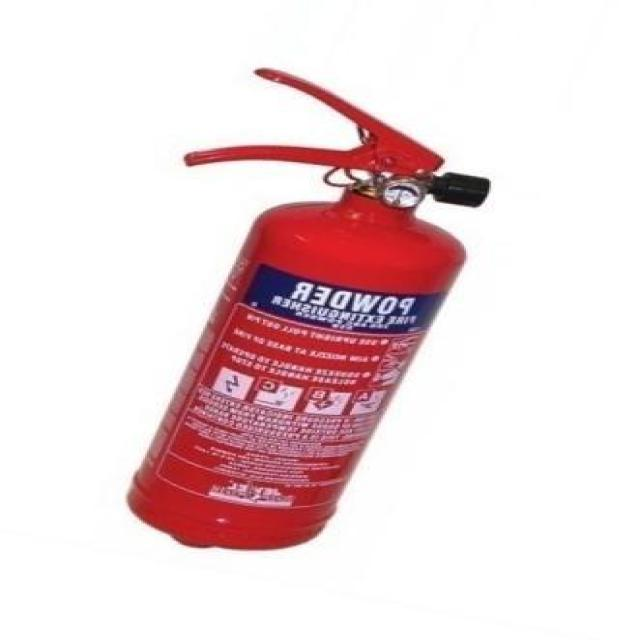fire_extinguisher: (109, 59, 498, 557)
